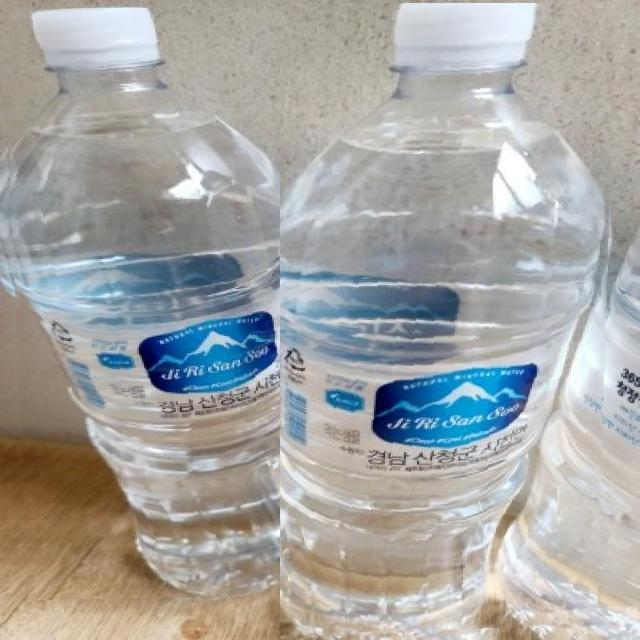plastic bottle: (280, 3, 616, 640), (2, 8, 312, 600)
